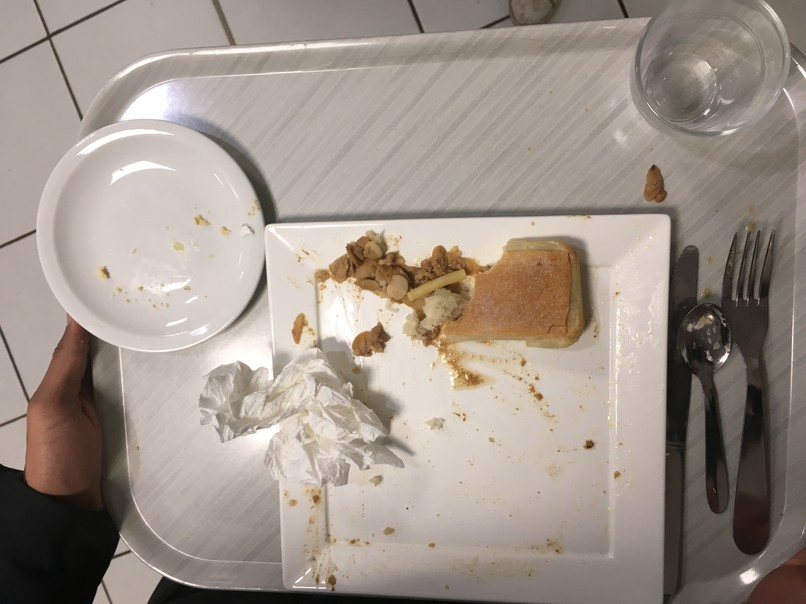cup: (649, 1, 787, 137)
cutlery: (723, 223, 777, 556), (663, 237, 703, 594), (680, 301, 737, 516)
orga: (335, 236, 468, 337), (481, 240, 584, 348)
trash: (200, 353, 402, 495)
